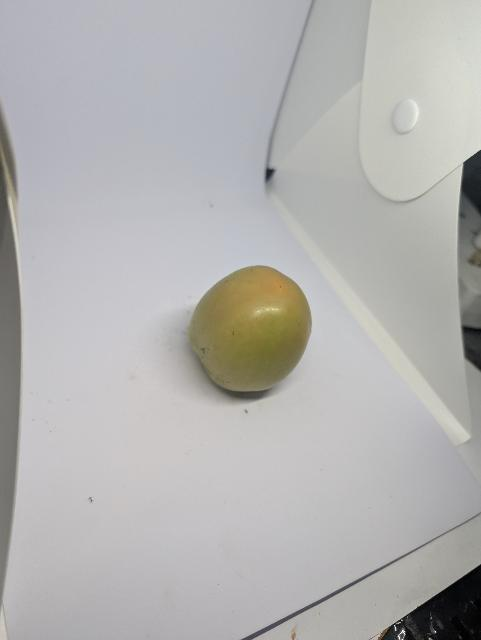breaker: (182, 258, 321, 397)
